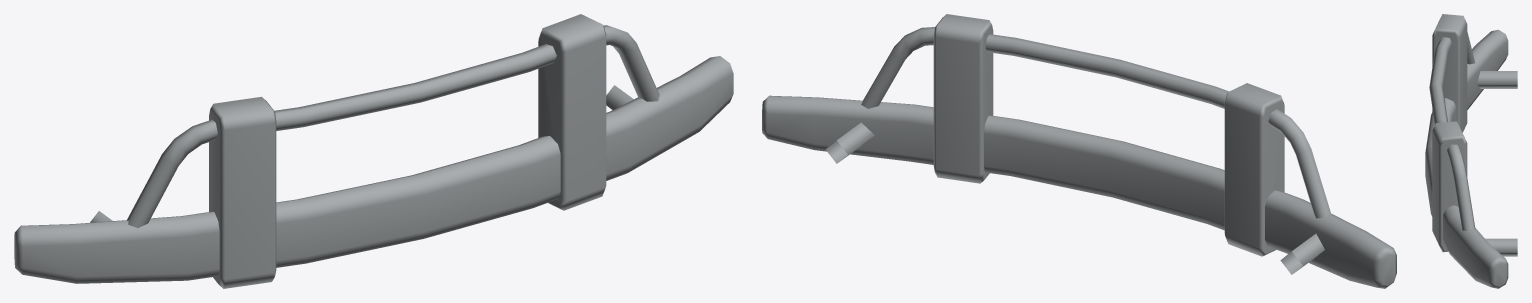
File: Car_07_FrontBumper_Simple.fbx
3 views of the same model, side by side, from view 1: azimuth 30°, elevation 25°; view 2: azimuth 150°, elevation 25°; view 3: azimuth 270°, elevation 25° (orthographic). The views are drawn at different scales.
Visible parts, largest first — view 1: Car_07_FrontBumper_Simple; view 2: Car_07_FrontBumper_Simple; view 3: Car_07_FrontBumper_Simple.
Part boxes in pixels (left/top/right/bottom): Car_07_FrontBumper_Simple: left=14, top=14, right=733, bottom=288; Car_07_FrontBumper_Simple: left=762, top=14, right=1396, bottom=288; Car_07_FrontBumper_Simple: left=1425, top=14, right=1517, bottom=288.
Bounding box in the file's own units: 183 × 30.64 × 42.21.
